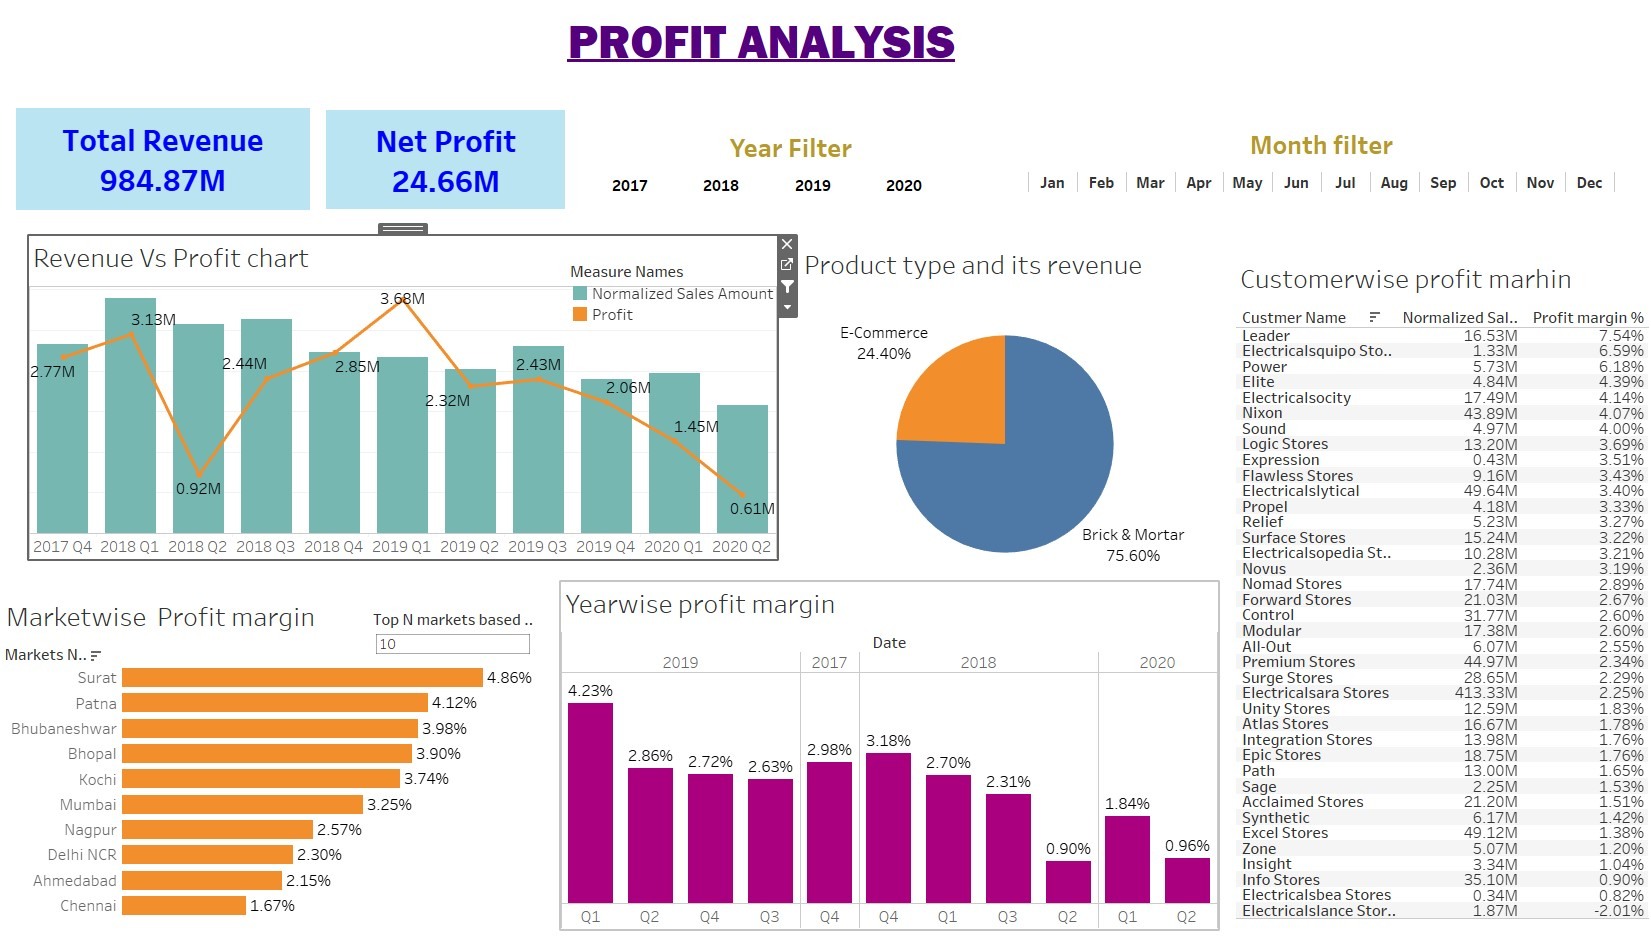

The page's visual inventory and layout, read from the dashboard file:
{"tool":"tableau","page":{"name":"Dashboard-Profit Analysis","canvas":[1000,1000],"units":"permille","ordinal":0},"visuals":[{"type":"text","box":[134.6,16.5,657.2,80.3]},{"type":"worksheet","title":"KPI1-Total Revenue","mark":"Automatic","box":[13.3,124.6,177.4,105]},{"type":"worksheet","title":"KPI3-Profit","mark":"Automatic","box":[200.4,126.7,144.2,102]},{"type":"worksheet","title":"Month filter","mark":"Automatic","cols":["cy_date","cy_date"],"box":[624,140.1,354.2,72.1]},{"type":"worksheet","title":"Year Filter","mark":"Automatic","cols":["cy_date"],"box":[370.6,143.2,220.9,72.1]},{"type":"worksheet","title":"Revenue Vs Profit chart","mark":"Bar","rows":["Calculation_1536853433377452032","profit_margin"],"cols":["cy_date"],"box":[21.1,256.4,451.4,332.7]},{"type":"worksheet","title":"Product type and its revenue","mark":"Pie","box":[486.4,263.6,247.4,362.5]},{"type":"worksheet","title":"Customerwise profit marhin","mark":"Automatic","rows":["custmer_name"],"box":[749.6,278.1,249.2,681.8]},{"type":"legend","title":"Revenue Vs Profit chart","param":"[federated.1m4t0ea0meadag17fuikr05sj8xm].[:Measure Names]","box":[347.6,282.2,126.1,65.9]},{"type":"worksheet","title":"Yearwise profit margin","mark":"Bar","rows":["Calculation_1758655716888236032"],"cols":["date","date"],"box":[342.2,612.8,396.5,357.4]},{"type":"worksheet","title":"Marketwise  Profit margin","mark":"Automatic","rows":["markets_name"],"cols":["Calculation_1758655716888236032"],"box":[4.8,626.2,333.1,332.7]},{"type":"parameter","param":"[Parameters].[Parameter 3]","box":[228.7,640.6,96.6,49.4]}]}

Visuals, with their boxes on the dashboard's canvas, which has no fixed pixel size, in thousandths of its width and height (x1, y1, x2, y2). These are canvas units, not pixel positions in the 1651x947 screenshot, which may show the page scaled, cropped or inside an application window:
text: <bbox>135, 16, 792, 97</bbox>
"KPI1-Total Revenue" worksheet: <bbox>13, 125, 191, 230</bbox>
"KPI3-Profit" worksheet: <bbox>200, 127, 345, 229</bbox>
"Month filter" worksheet: <bbox>624, 140, 978, 212</bbox>
"Year Filter" worksheet: <bbox>371, 143, 592, 215</bbox>
"Revenue Vs Profit chart" worksheet (Bar marks): <bbox>21, 256, 472, 589</bbox>
"Product type and its revenue" worksheet (Pie marks): <bbox>486, 264, 734, 626</bbox>
"Customerwise profit marhin" worksheet: <bbox>750, 278, 999, 960</bbox>
"Revenue Vs Profit chart" legend: <bbox>348, 282, 474, 348</bbox>
"Yearwise profit margin" worksheet (Bar marks): <bbox>342, 613, 739, 970</bbox>
"Marketwise  Profit margin" worksheet: <bbox>5, 626, 338, 959</bbox>
parameter: <bbox>229, 641, 325, 690</bbox>
